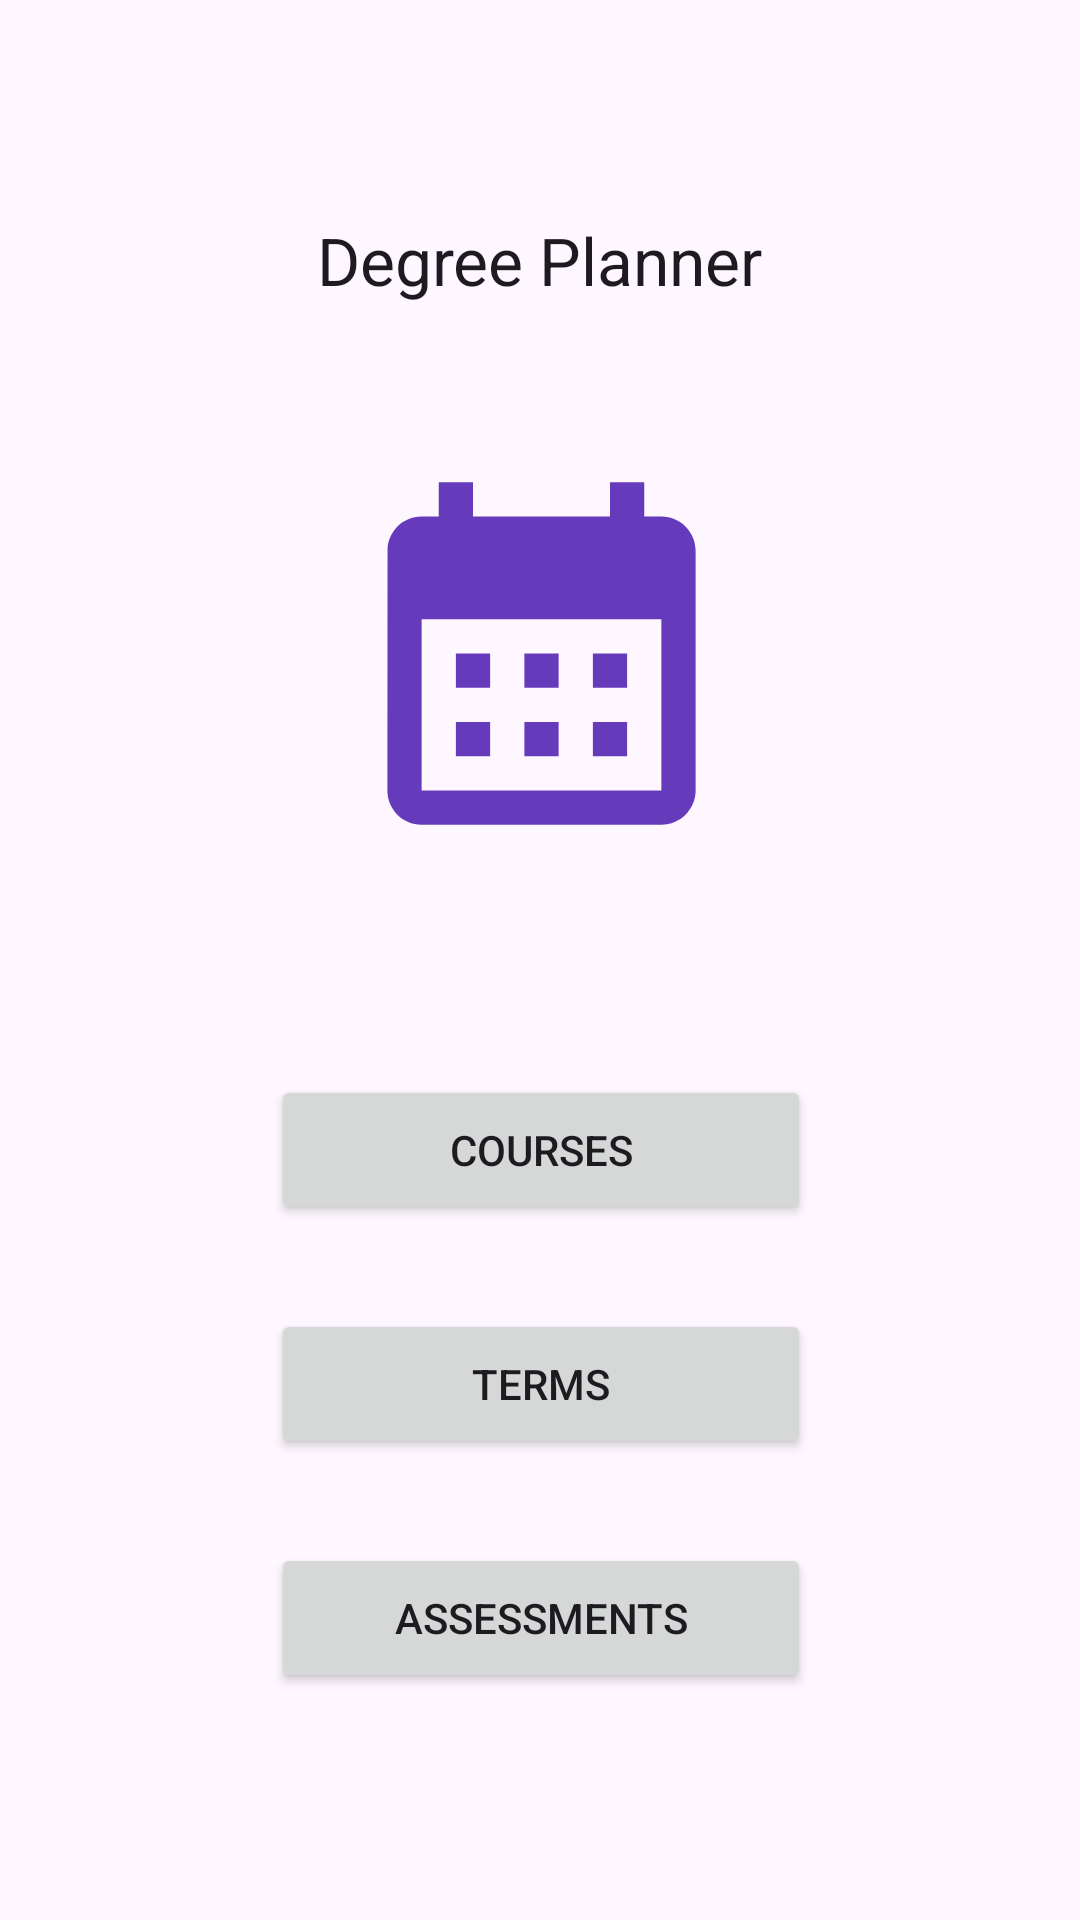

Icon bounding boxes for this 1080px x 1920px phone screenshot, format Rect(x1, y1, x2, y2):
calendar month: Rect(387, 482, 696, 825)
